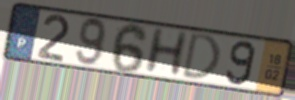2: (36, 13, 71, 64)
6: (110, 21, 151, 75)
9: (73, 16, 109, 69), (225, 40, 258, 87)
D: (180, 31, 223, 82)
H: (141, 26, 191, 77)
